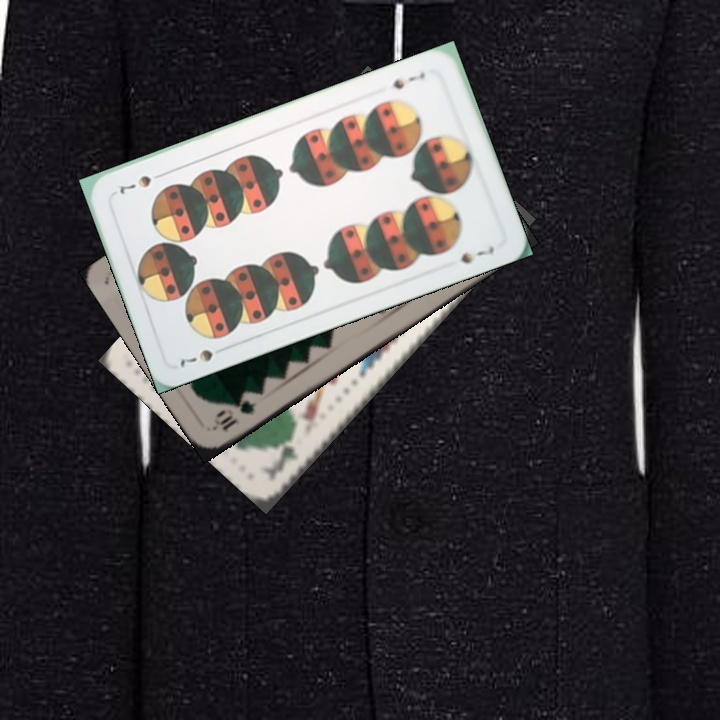G10: (209, 396, 261, 434)
GK: (269, 431, 302, 479)
S7: (176, 341, 231, 369), (389, 68, 428, 92)
